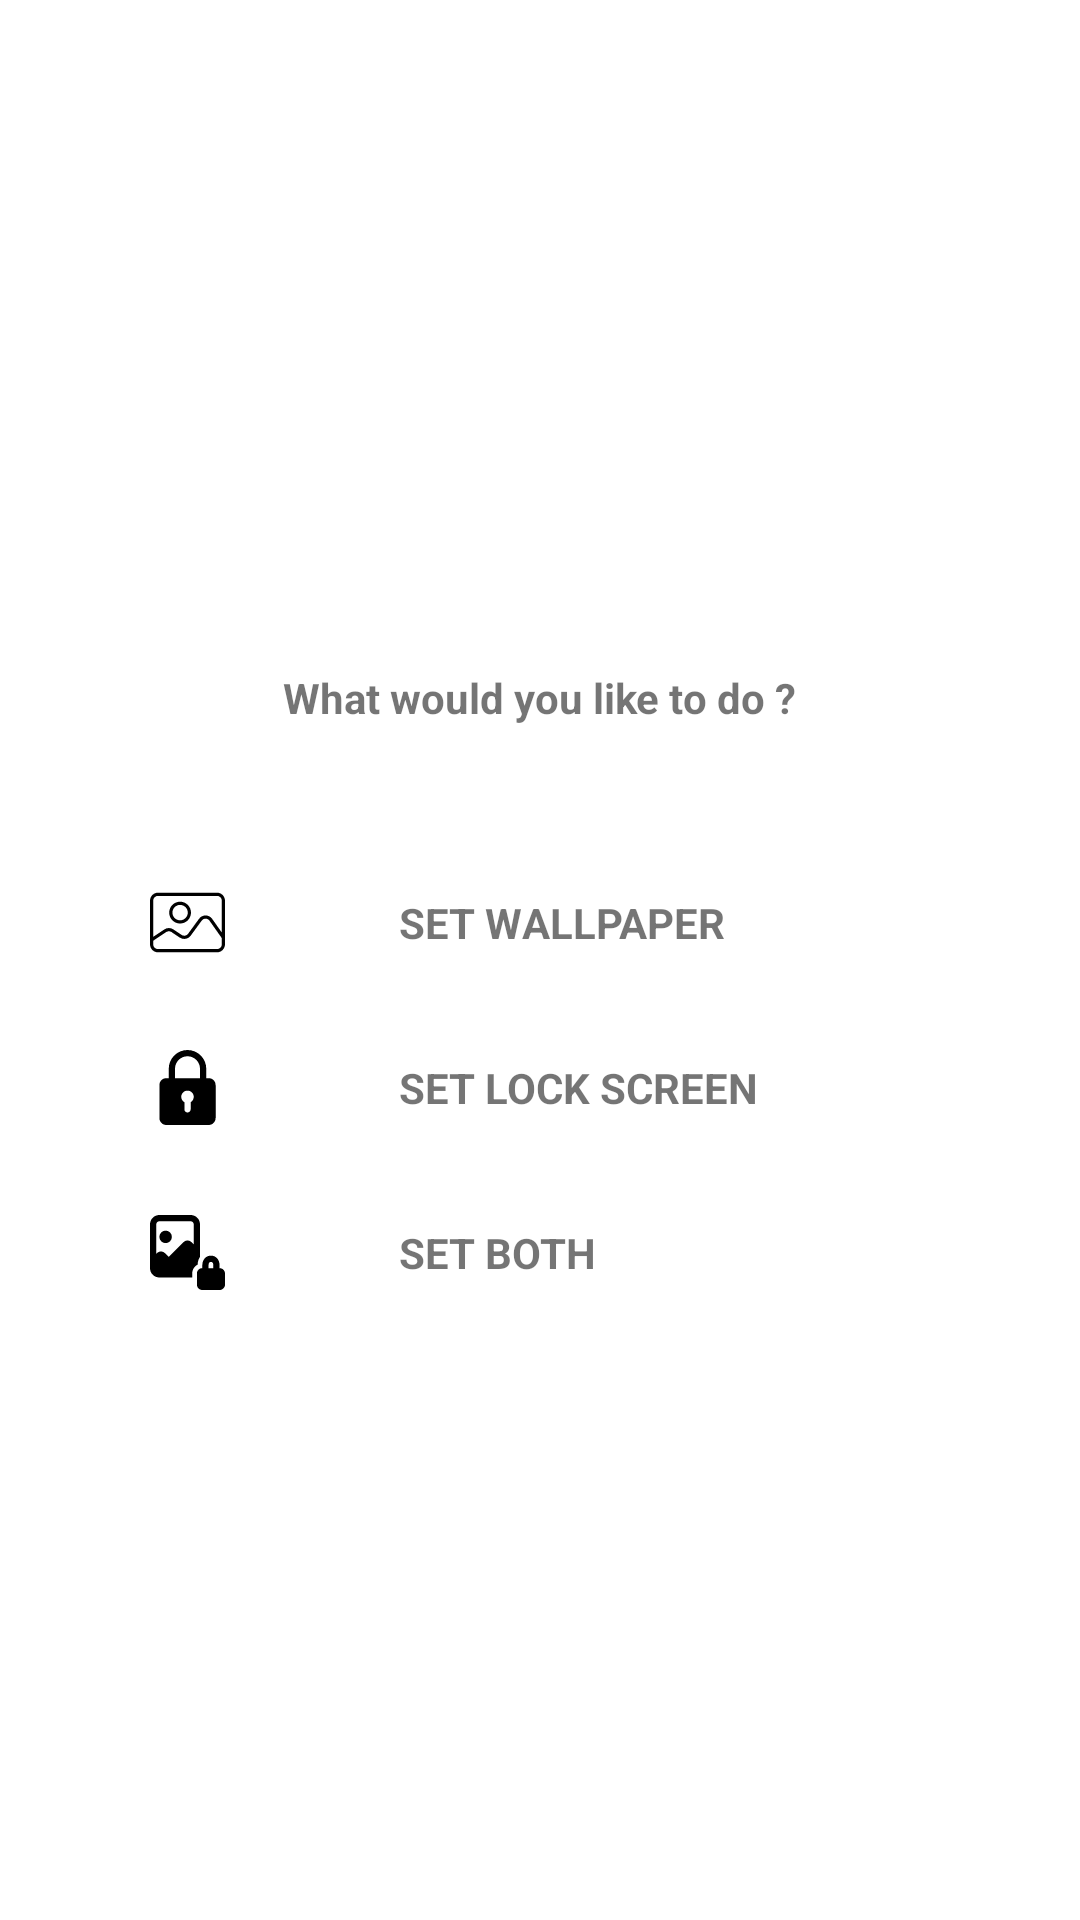

Named icons in this screenshot (1080 × 1920) and their bounding boxes, (x1, y1, x2, y2):
padlock: (159, 1050, 216, 1125)
